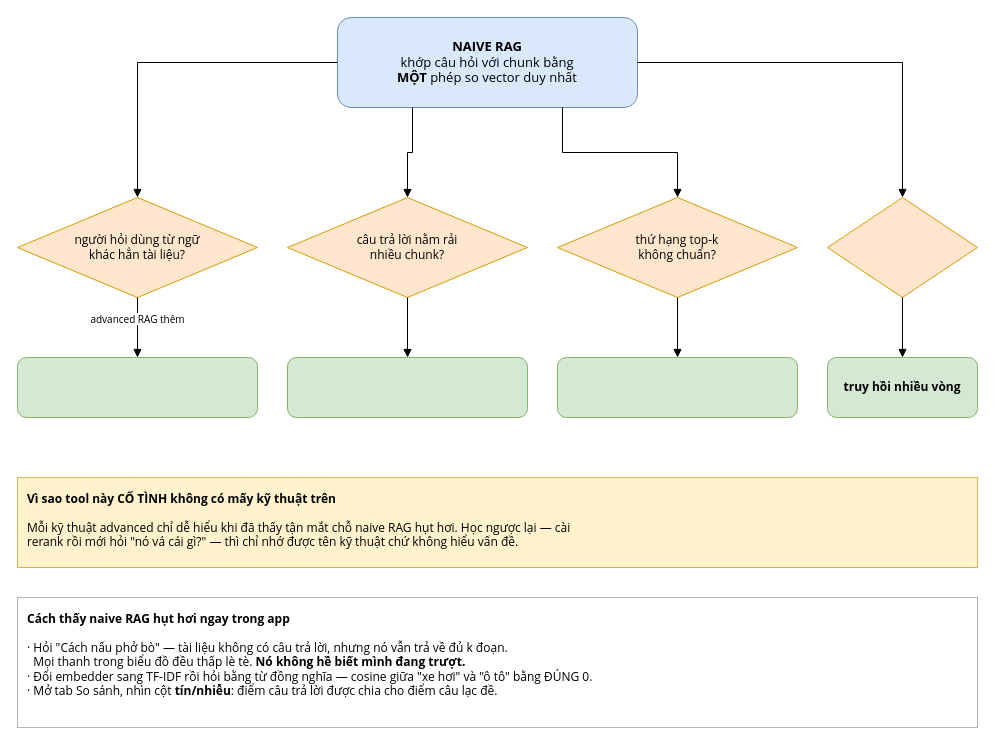
The diagram is 995 pixels wide and 745 high, and some of its shapes have lost their labels. The shapes that lost their labels are listed below. From the top down, each one's centre as x and y in pixels, then its label:
the point at 902,247: câu hỏi cần suy luận nhiều bước?
the point at 137,387: viết lại / mở rộng câu hỏi HyDE
the point at 407,387: tìm kiếm lai (hybrid) parent-document retrieval
the point at 677,387: mô hình rerank chấm lại k đoạn đã lấy
